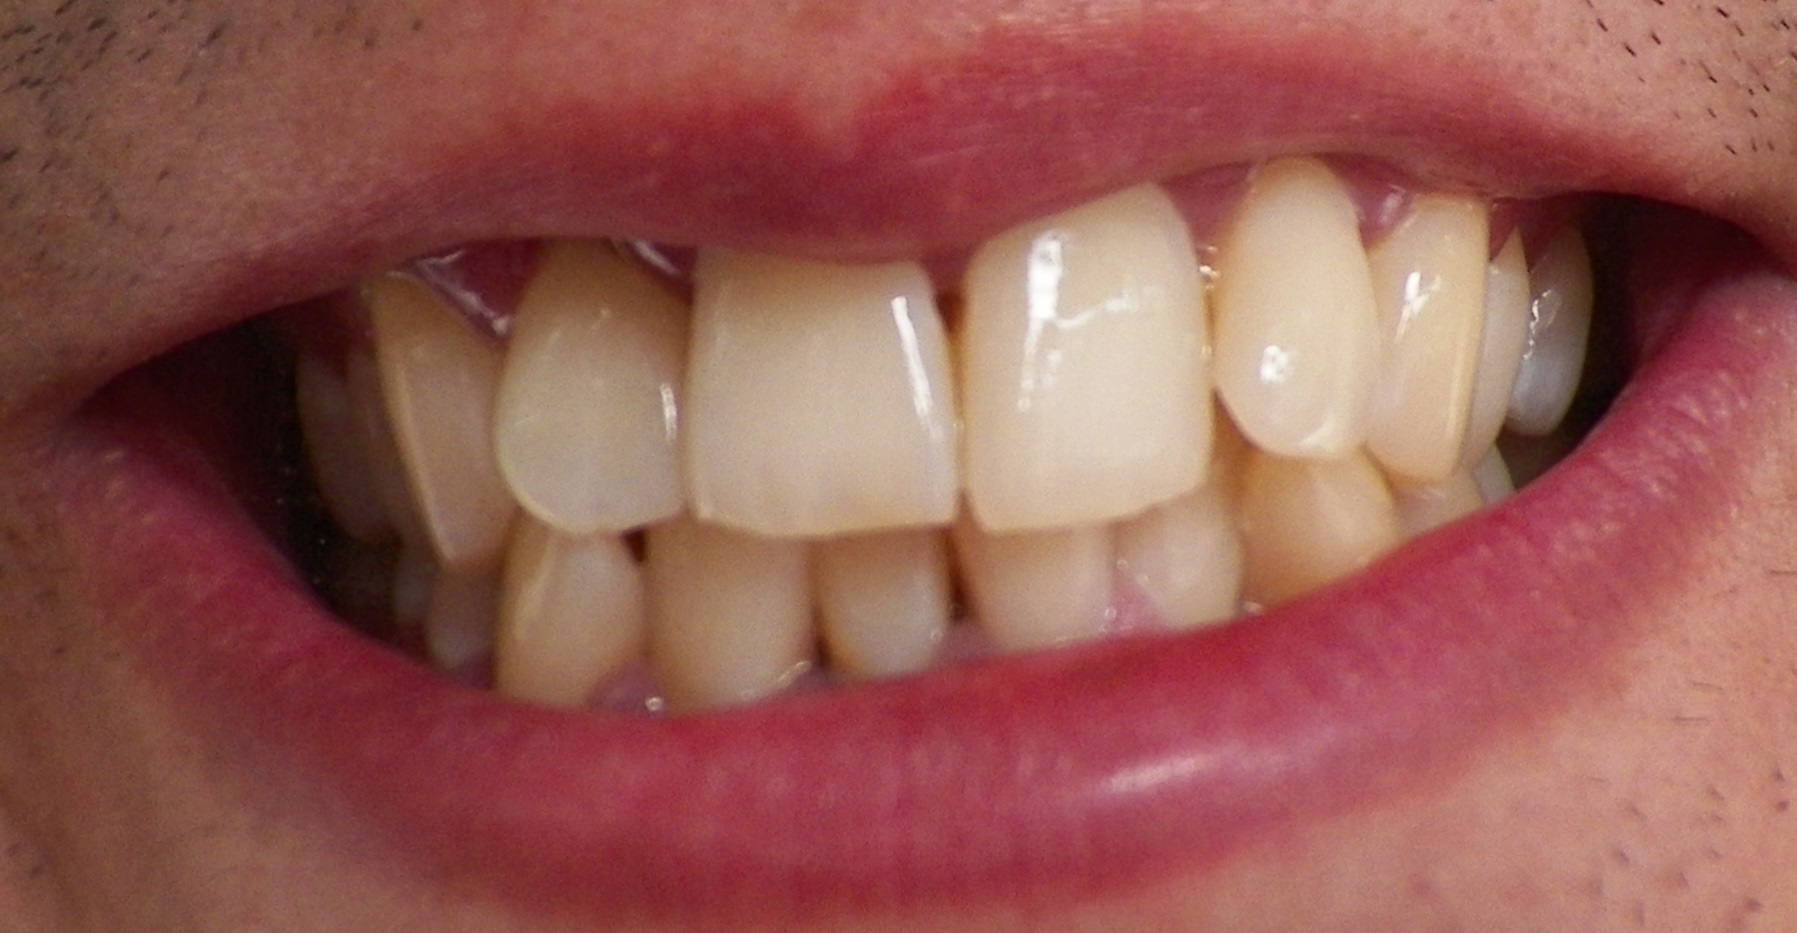boca: (324, 203, 1647, 705)
